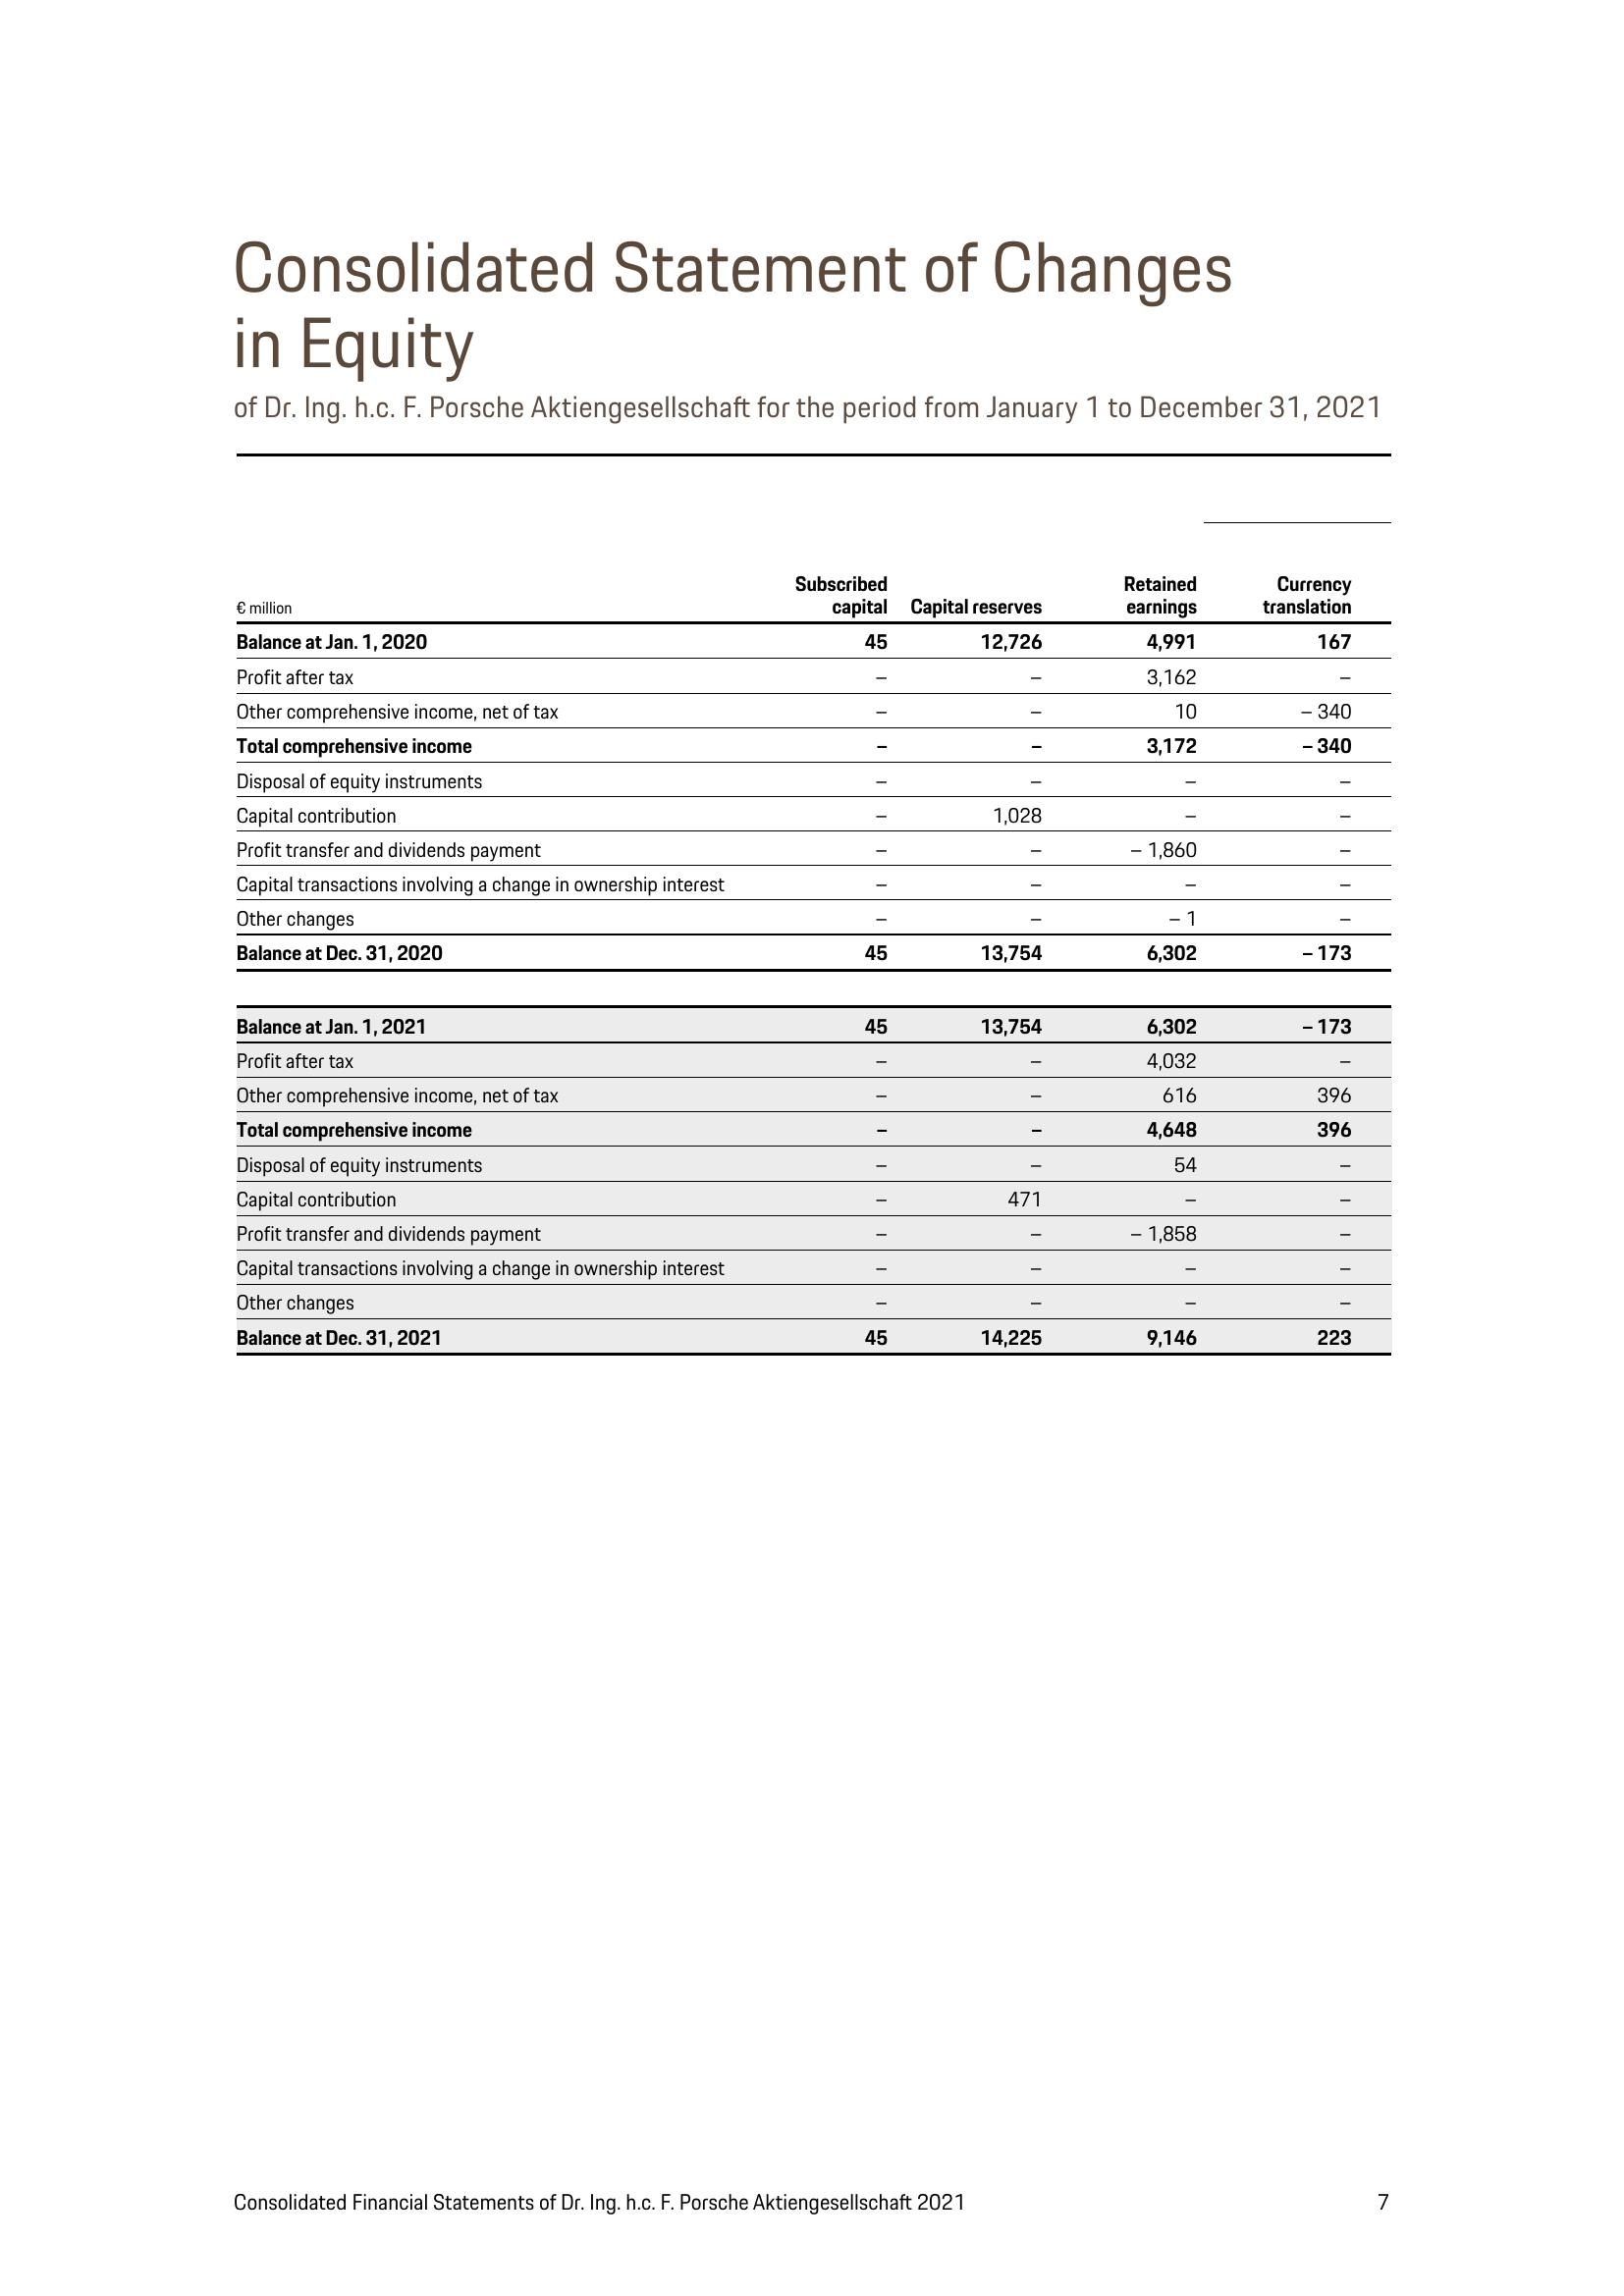Footer: (0, 2117, 1624, 2296)
Header: (0, 0, 1624, 183)
Table: (163, 416, 1403, 1437)
